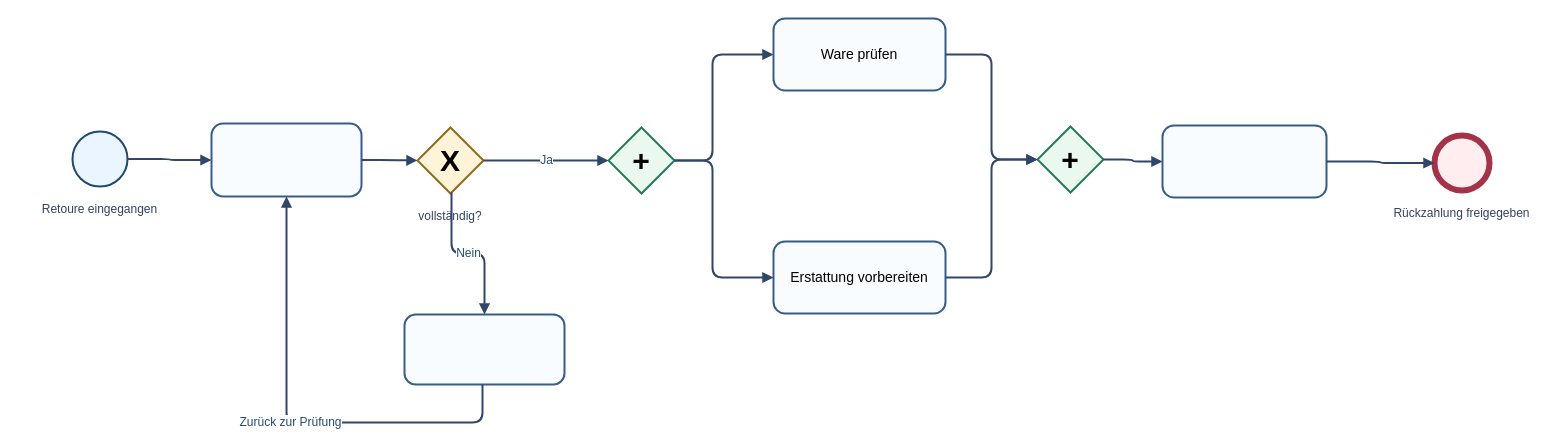
Image size: 1561x448. Some labels were removed from this diagram. Here are the shapes that lost their labels. From the top down, the centre of each, then its label:
(286,159): Angaben prüfen
(1244,161): Rückzahlung freigeben
(484,349): Angaben nachfordern
